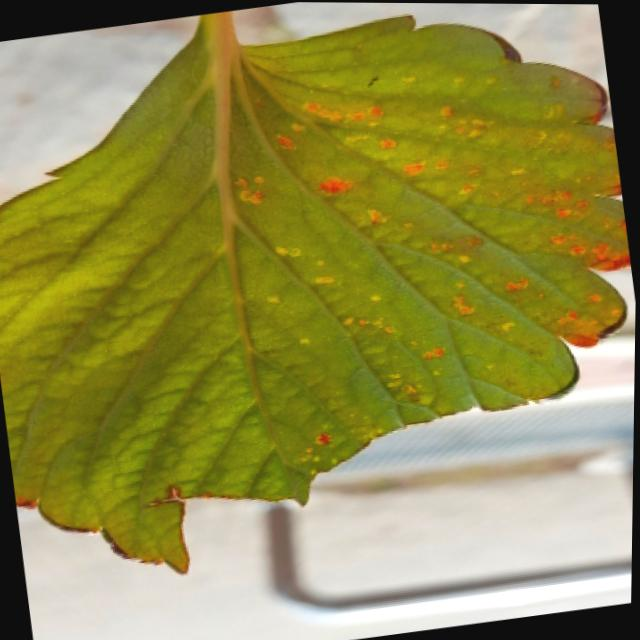Angular Leafspot: (224, 26, 632, 481)
